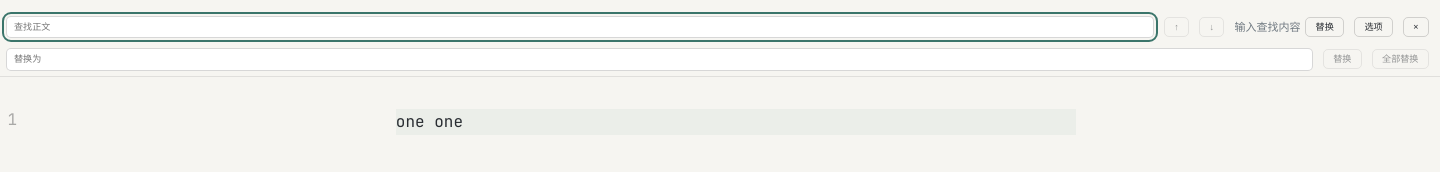
Test: compact Chinese document search › keeps focus in the search bar when replace-all disables its focused action, then Escape returns to the editor
The image size is (1440, 172).
Type "one" into the field with placeholder "查找正文". click: (580,27)
box: [6, 16, 1154, 38]
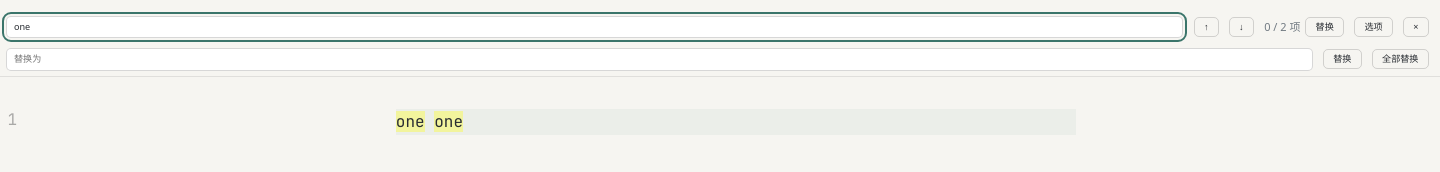
Type "two" into the field with placeholder "替换为". click: (659,59)
box: [6, 48, 1313, 70]
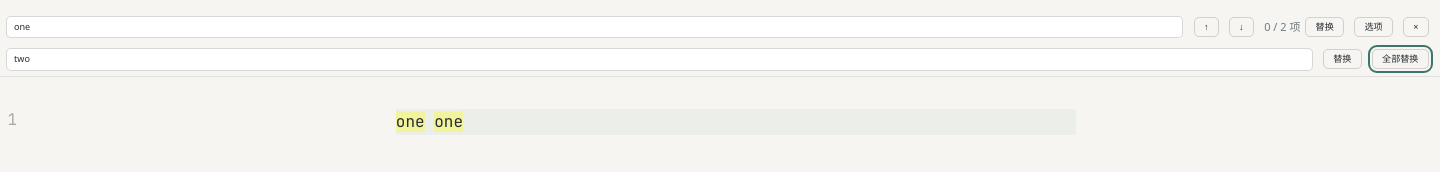
Click the button "全部替换". click: (1400,59)
box: [1372, 49, 1429, 69]
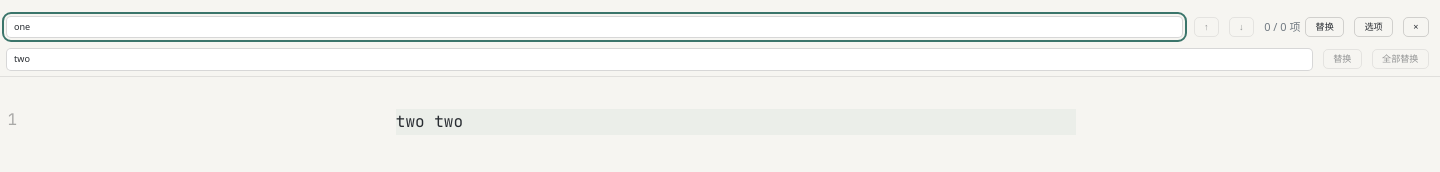
Press Escape in the field named "查找正文", box [6, 16, 1183, 38]
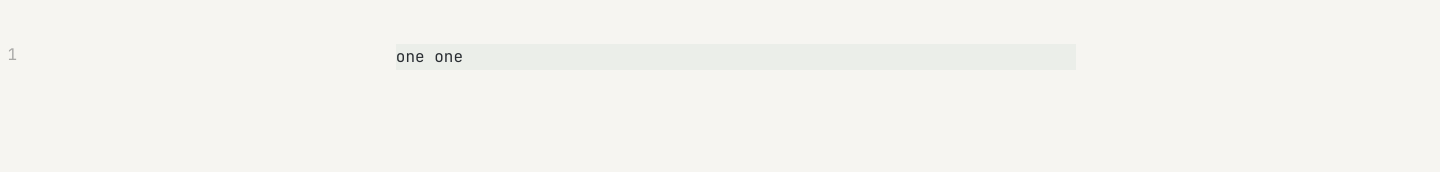
Check: the element with class "cm-search" is gone
Check: the text box labelled "one one" is shown, box [396, 44, 1076, 70]
